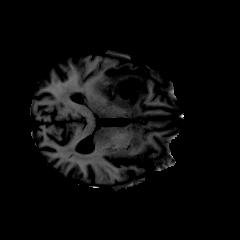glioma: (80, 63, 148, 107)
